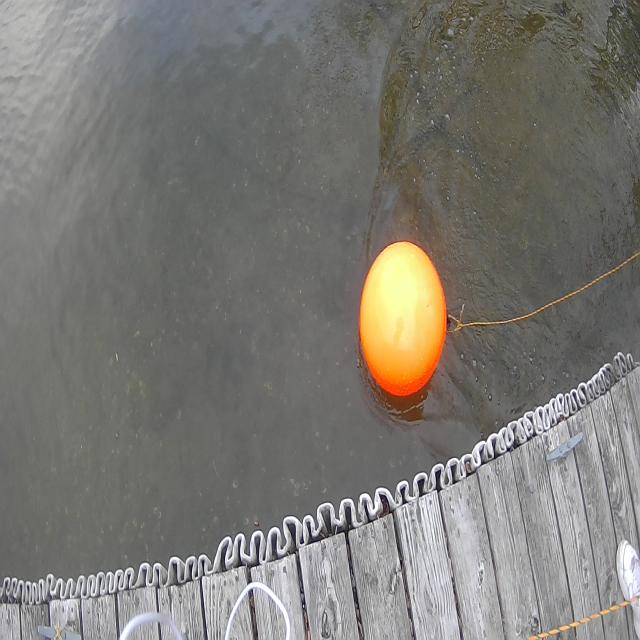Buoy: (356, 232, 451, 404)
